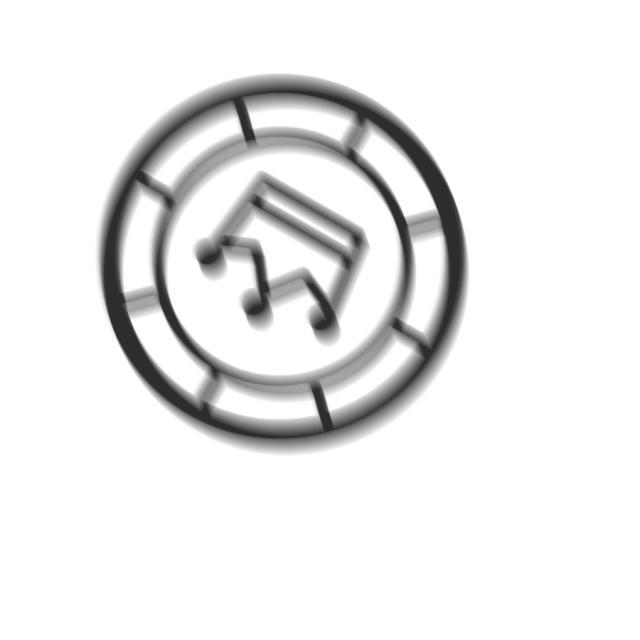coin: (89, 70, 478, 462)
